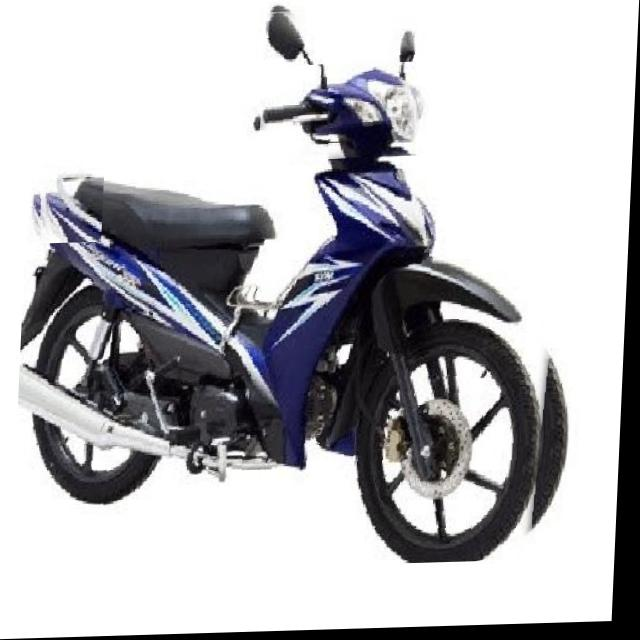All: (16, 0, 586, 575)
Head: (258, 64, 440, 165)
Tail: (39, 169, 106, 244)
